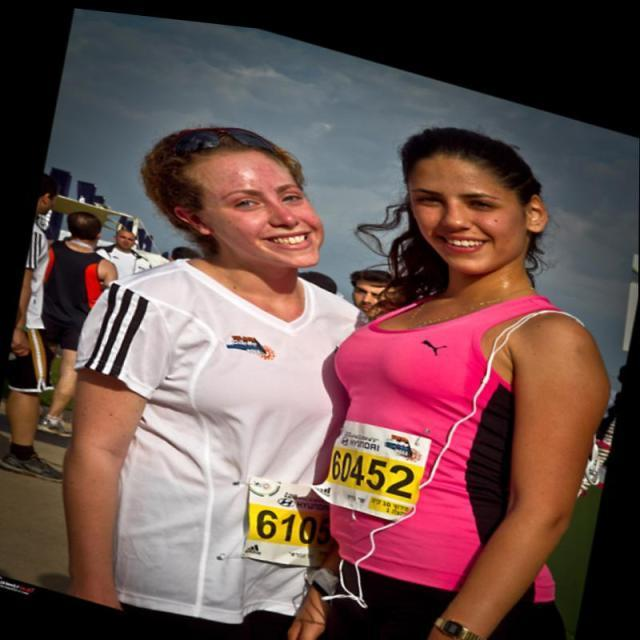dorsal: (316, 398, 442, 528), (226, 451, 356, 574)
